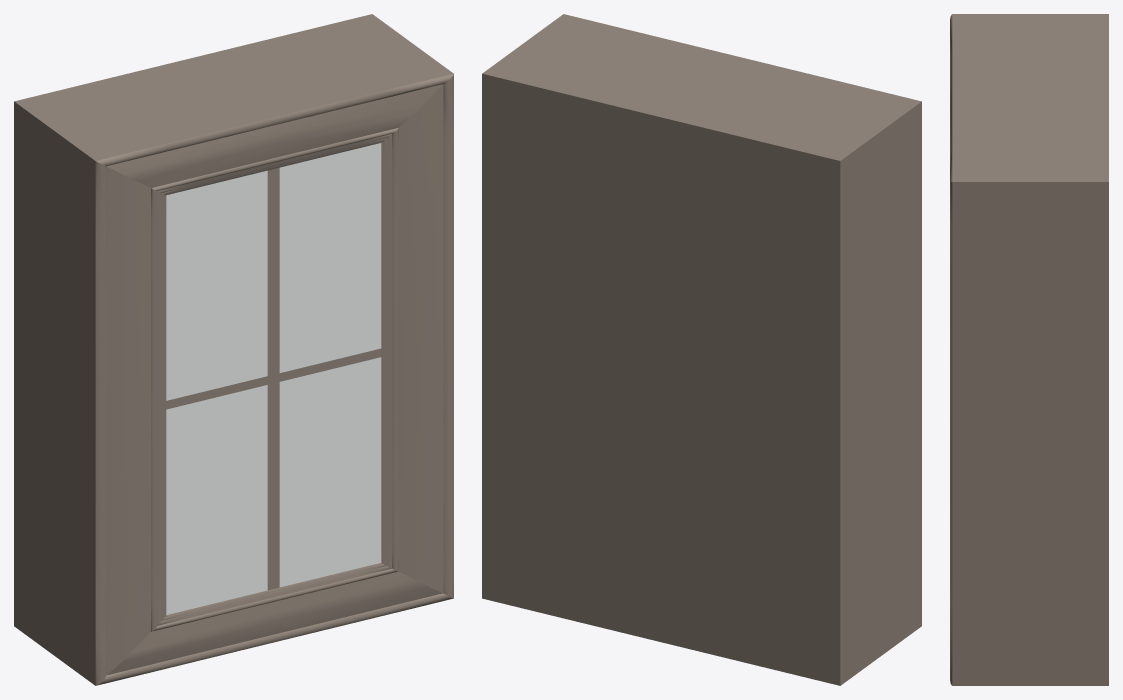
The model's file is Wall-Cabinet-with-Doors-Prepped-for-Glass_std_001_H42in_onlyH.glb.
The picture shows the model from 3 angles, left to right: view 1: azimuth 30°, elevation 25°; view 2: azimuth 150°, elevation 25°; view 3: azimuth 270°, elevation 25°; orthographic projection. The views are drawn at different scales.
Parts seen in each view (by area): view 1: Wall-Cabinet-with-Doors-Prepped-for-Glass.std.001_H42in_only; view 2: Wall-Cabinet-with-Doors-Prepped-for-Glass.std.001_H42in_only; view 3: Wall-Cabinet-with-Doors-Prepped-for-Glass.std.001_H42in_only.
Part boxes in pixels (box(x1,y1,x2,y2)): Wall-Cabinet-with-Doors-Prepped-for-Glass.std.001_H42in_only: box(14, 14, 453, 685); Wall-Cabinet-with-Doors-Prepped-for-Glass.std.001_H42in_only: box(482, 14, 921, 685); Wall-Cabinet-with-Doors-Prepped-for-Glass.std.001_H42in_only: box(950, 14, 1108, 685).
Bounding box in the file's own units: 0.762 × 1.07 × 0.3048.
